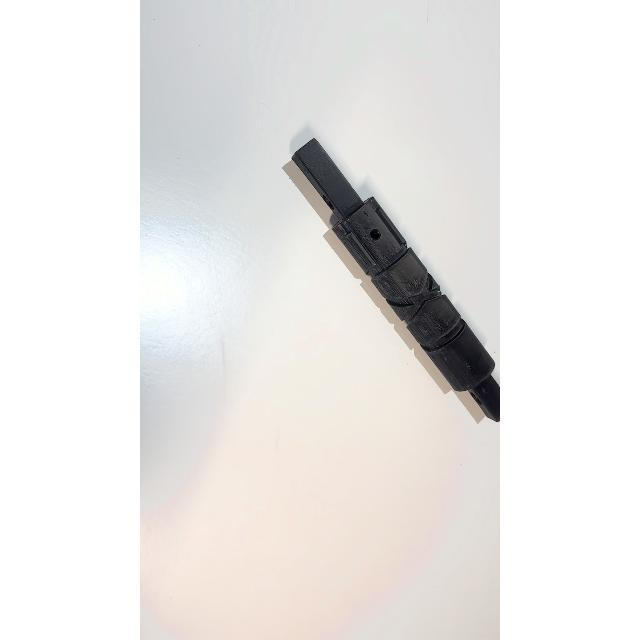Pieza_1: (270, 128, 500, 450)
